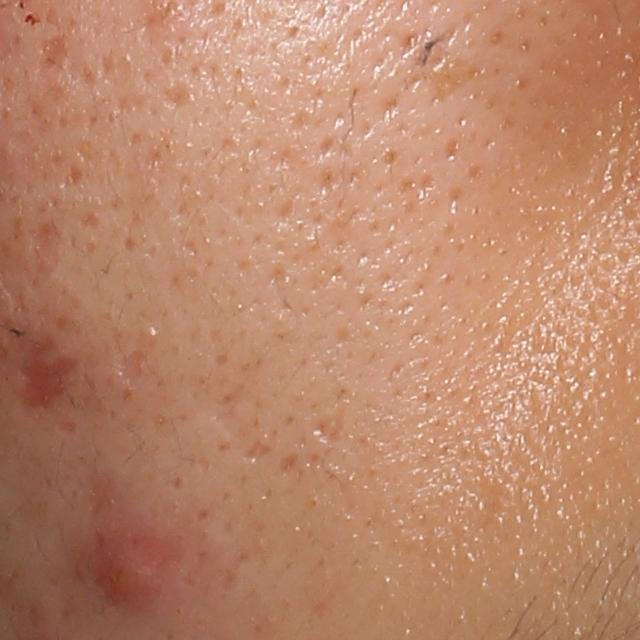atrophic_scar: (185, 367, 255, 450), (9, 337, 80, 416), (23, 217, 63, 284), (308, 406, 342, 444), (113, 350, 147, 385), (40, 33, 67, 67), (240, 436, 273, 458), (277, 451, 301, 475)
papule: (90, 533, 173, 613)
